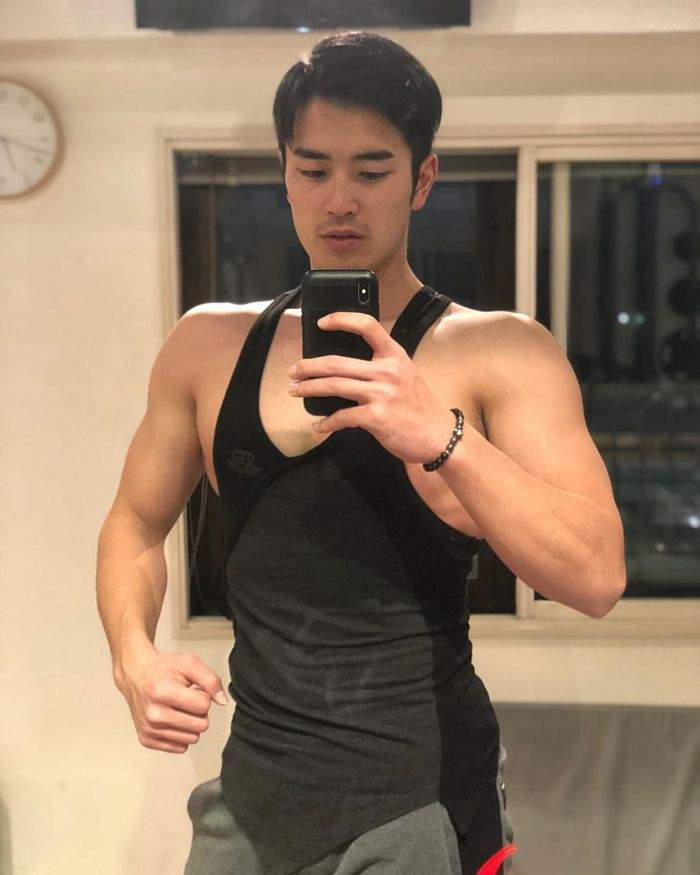person: (185, 55, 580, 854)
